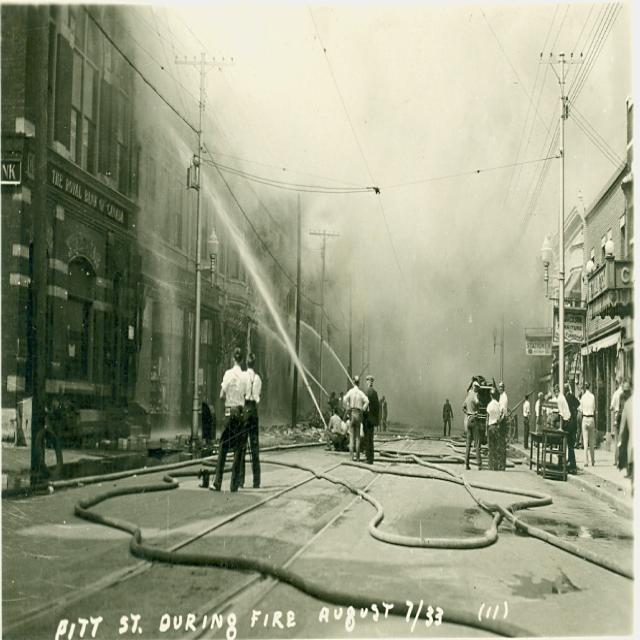body: (208, 346, 246, 492), (237, 350, 263, 489), (341, 374, 369, 466), (326, 389, 364, 455), (552, 382, 578, 476), (461, 379, 484, 473), (617, 377, 633, 498), (360, 374, 380, 466), (560, 382, 581, 467), (484, 386, 502, 472), (579, 378, 596, 468), (610, 374, 624, 466), (496, 379, 508, 472), (324, 406, 343, 452), (574, 388, 586, 451), (522, 392, 531, 451), (442, 396, 454, 440), (534, 391, 545, 434), (375, 396, 383, 434), (381, 394, 388, 430)
